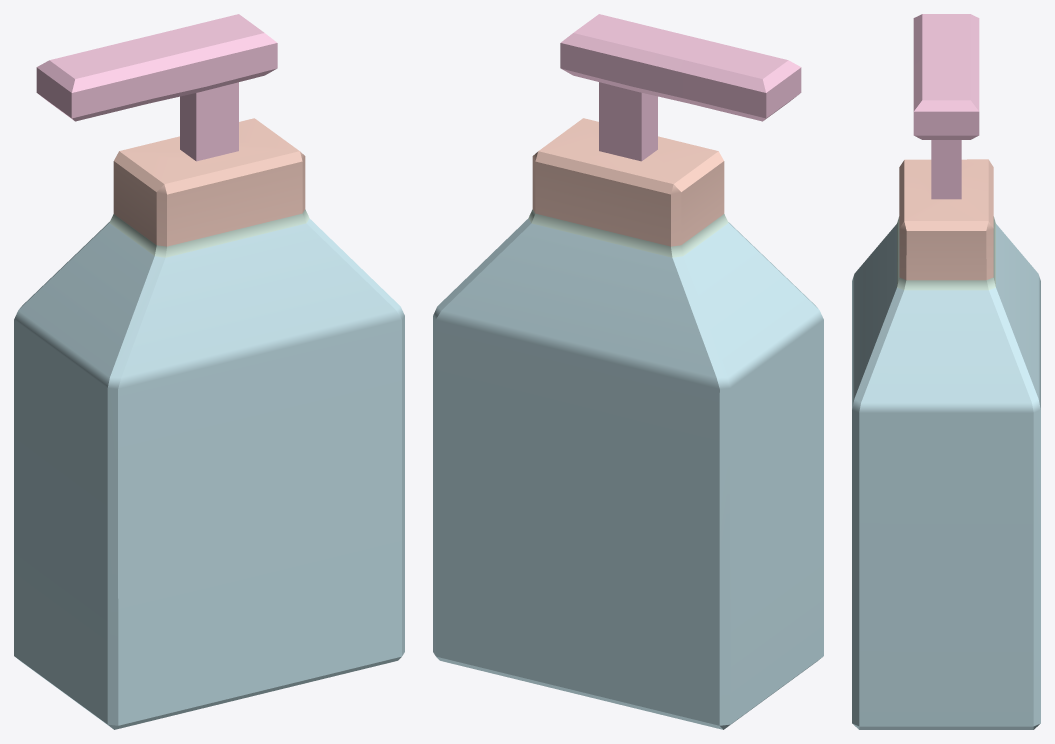
File: SoapDispenser_v01.fbx
3 renders of one model, left to right at view 1: azimuth 30°, elevation 25°; view 2: azimuth 150°, elevation 25°; view 3: azimuth 270°, elevation 25°, orthographic. The views are drawn at different scales.
Parts seen in each view (by area): view 1: Soap; view 2: Soap; view 3: Soap.
Part boxes in pixels (x1=…): Soap: x1=14, y1=14, x2=404, y2=729; Soap: x1=433, y1=14, x2=823, y2=729; Soap: x1=852, y1=14, x2=1040, y2=729.
Size of the model in its own units: 7.16 by 14.12 by 4.13.
